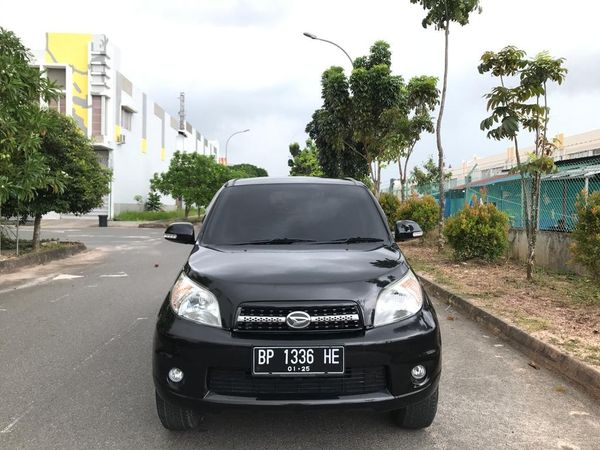plate: (251, 340, 347, 380)
